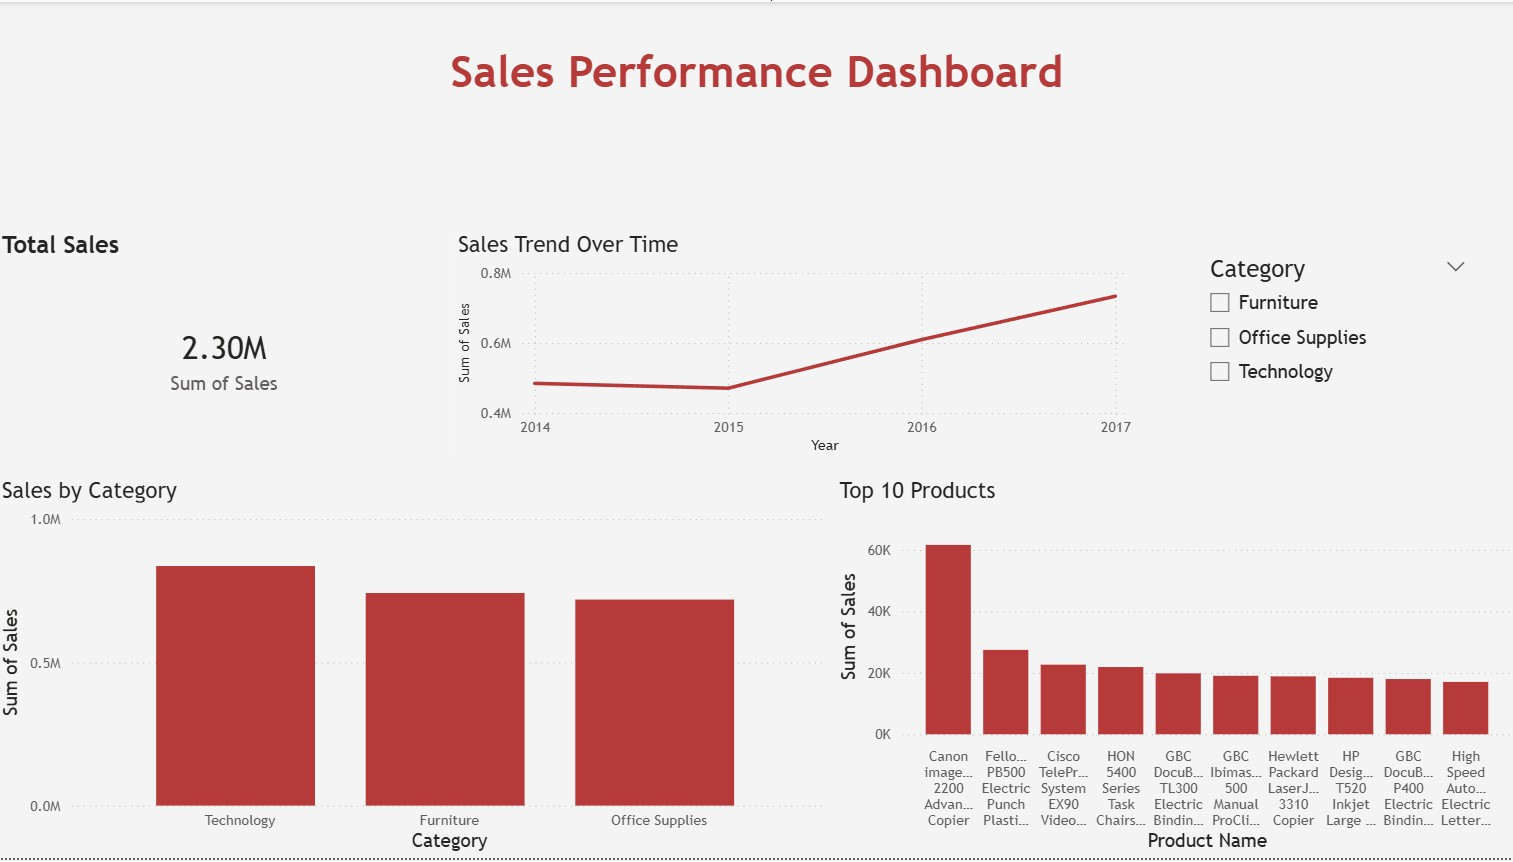

The dashboard page shown, as its layout file describes it:
{"tool":"powerbi","page":{"name":"Page 1","canvas":[1280,720],"ordinal":0},"visuals":[{"type":"clusteredColumnChart","title":"Sales by Category","fields":{"Category":["Superstore.Category"],"Y":["Sum(Superstore.Sales)"]},"box":[0,400,704,320],"z":0},{"type":"card","title":"Total Sales","fields":{"Values":["Sum(Superstore.Sales)"]},"box":[0,192,384,192],"z":1000},{"type":"lineChart","title":"Sales Trend Over Time","fields":{"Y":["Sum(Superstore.Sales)"],"Category":["Superstore.Order Date.Variation.Date Hierarchy.Year","Superstore.Order Date.Variation.Date Hierarchy.Quarter","Superstore.Order Date.Variation.Date Hierarchy.Month","Superstore.Order Date.Variation.Date Hierarchy.Day"]},"box":[384,192,576,192],"z":2000},{"type":"slicer","fields":{"Values":["Superstore.Category"]},"box":[1008,208,240,144],"z":3000},{"type":"clusteredColumnChart","title":"Top 10 Products","fields":{"Y":["Sum(Superstore.Sales)"],"Category":["Superstore.Product Name"]},"box":[704,400,576,320],"z":4000},{"type":"textbox","box":[0,16,1280,144],"z":5000}]}

Visuals, with their boxes in screenshot pixels (x1, y1, x2, y2), scaled from the page's 1280x720 canvas onto the 1513x862 screenshot:
"Sales by Category" clusteredColumnChart: {"left": 0, "top": 479, "right": 832, "bottom": 861}
"Total Sales" card: {"left": 0, "top": 230, "right": 454, "bottom": 460}
"Sales Trend Over Time" lineChart: {"left": 454, "top": 230, "right": 1135, "bottom": 460}
slicer - Superstore.Category: {"left": 1191, "top": 249, "right": 1475, "bottom": 421}
"Top 10 Products" clusteredColumnChart: {"left": 832, "top": 479, "right": 1512, "bottom": 861}
textbox: {"left": 0, "top": 19, "right": 1512, "bottom": 192}
